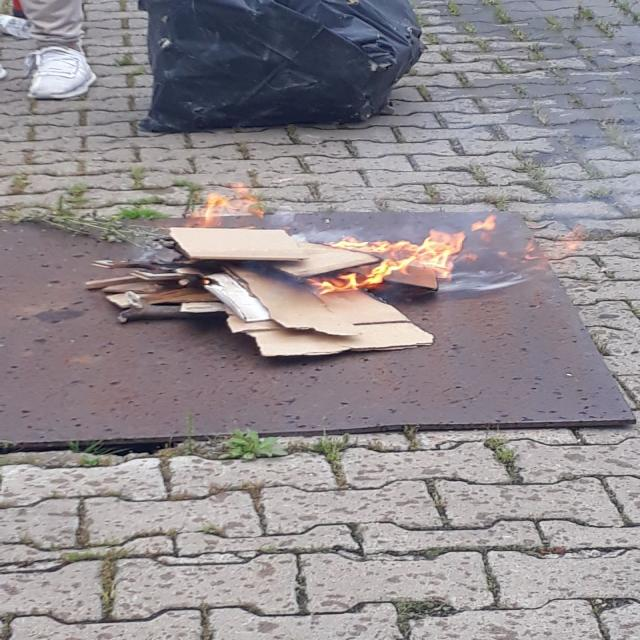fire: (134, 163, 532, 297)
